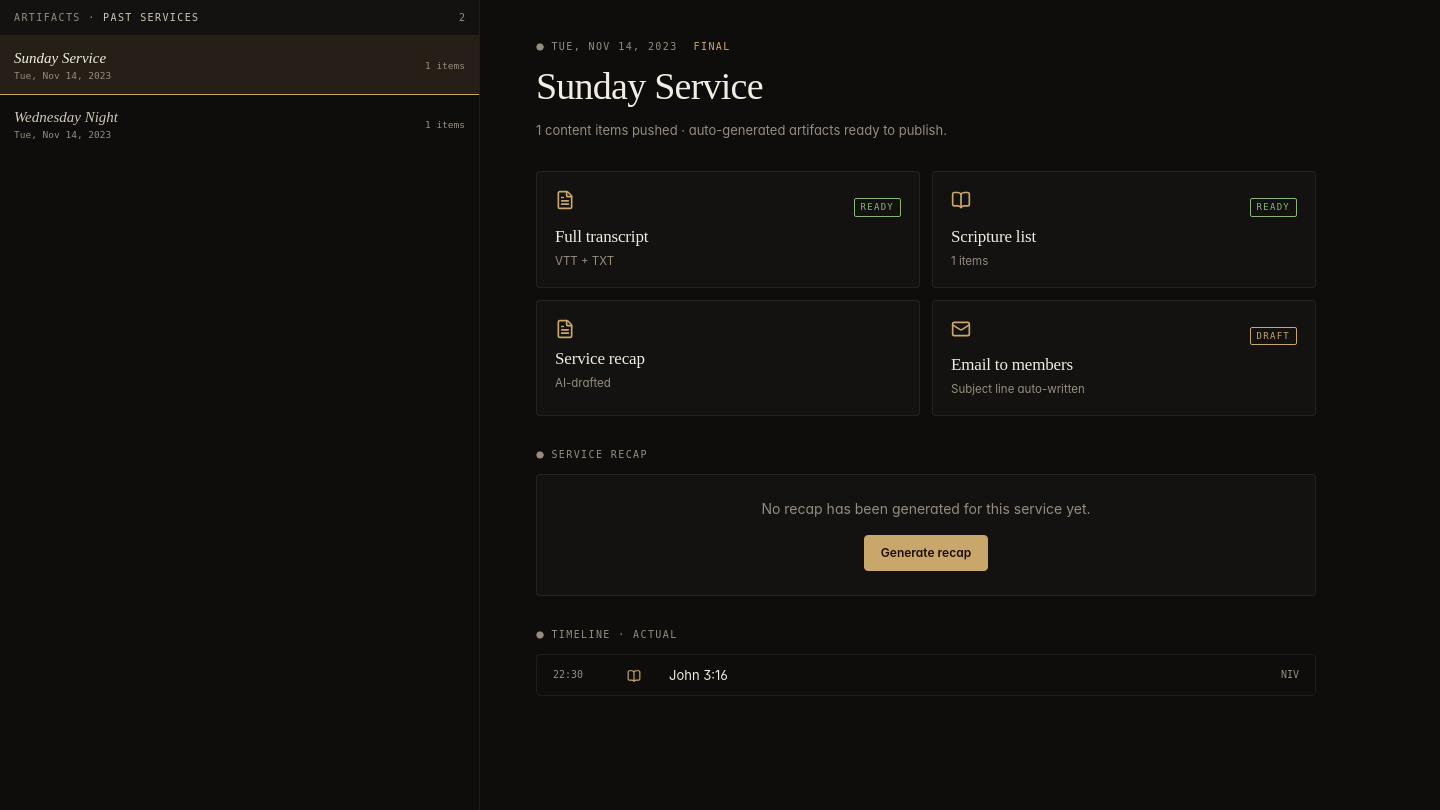
Scenario: LogsScreen › selects different project when clicked
Click the text "Wednesday Night".
click(66, 117)  # box [14,109,118,125]
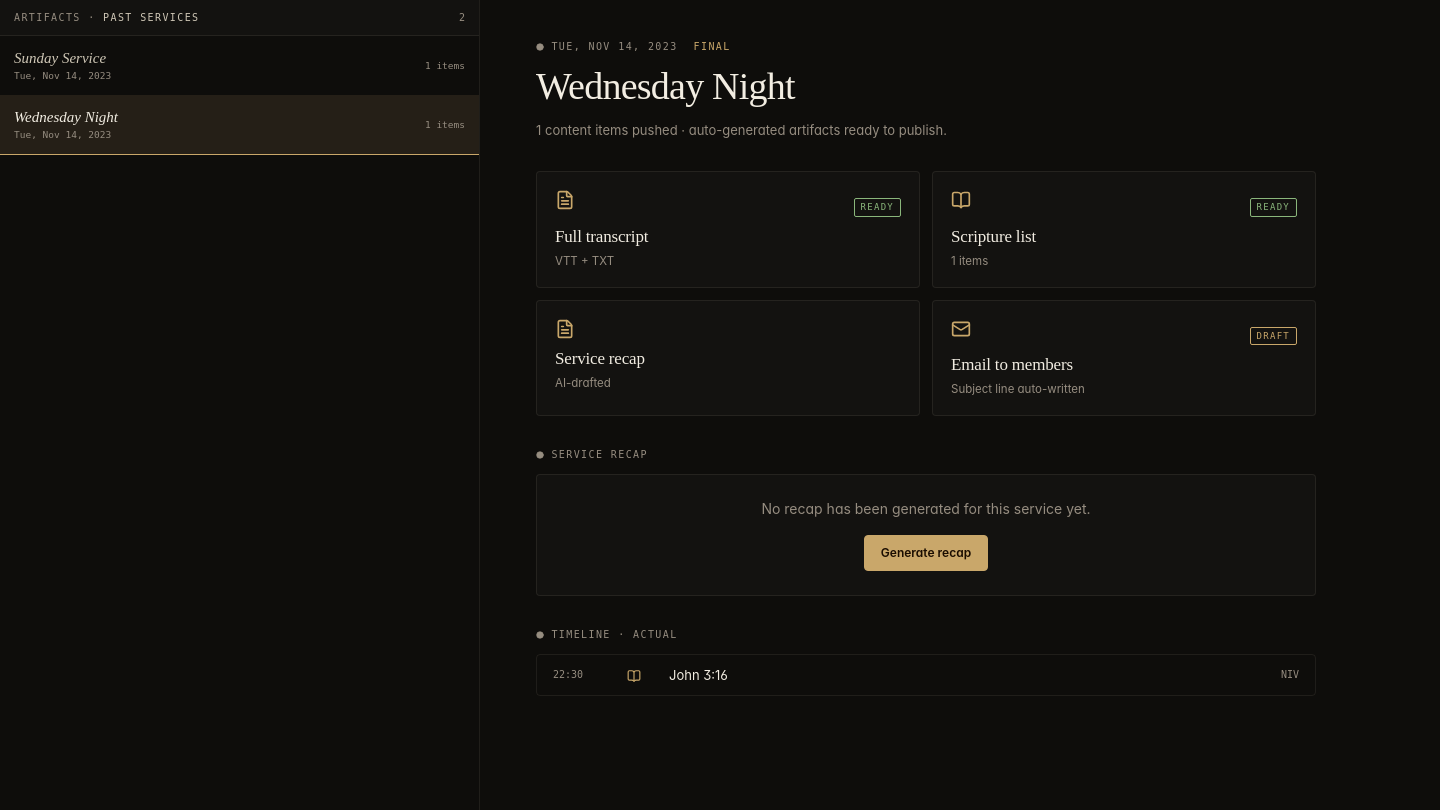
Expected: the heading reads "Wednesday Night", [536,65,795,107]
